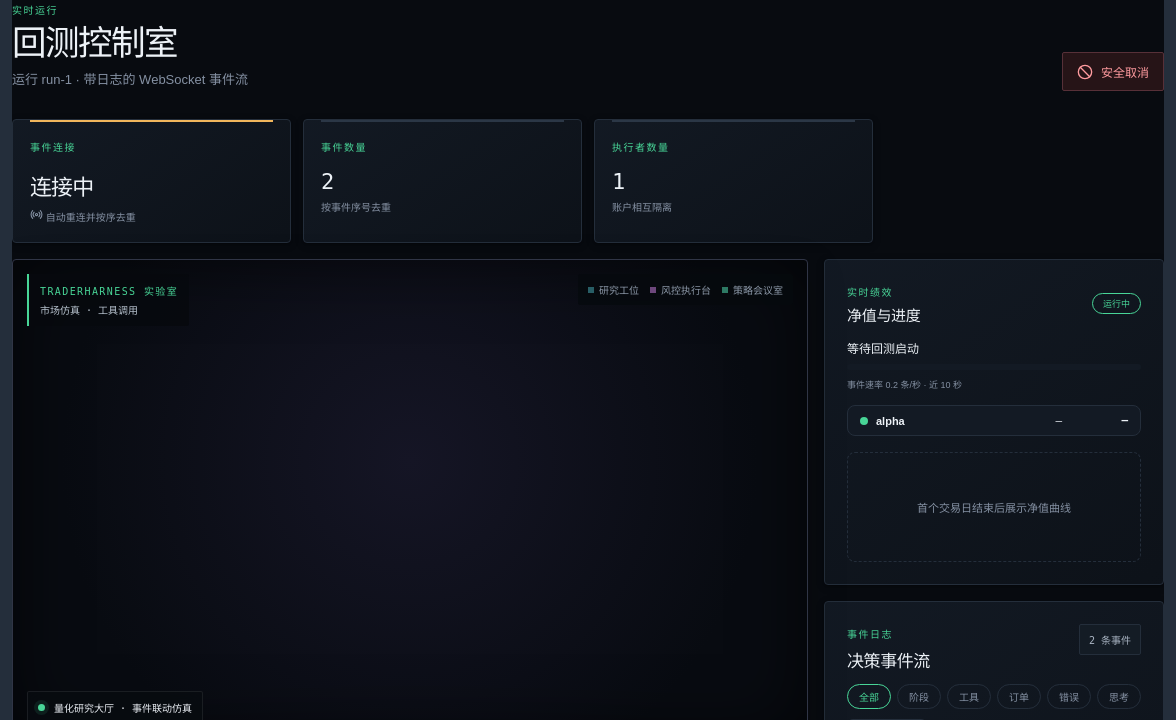
Test case: LiveRun › filters the event log by type chips
The image size is (1176, 720).
Check: the heading "回测控制室" is shown, box top-left (12, 24), bottom-right (177, 62)
Click the button "工具". click: click(969, 697)
box: top-left (947, 684), bottom-right (991, 709)
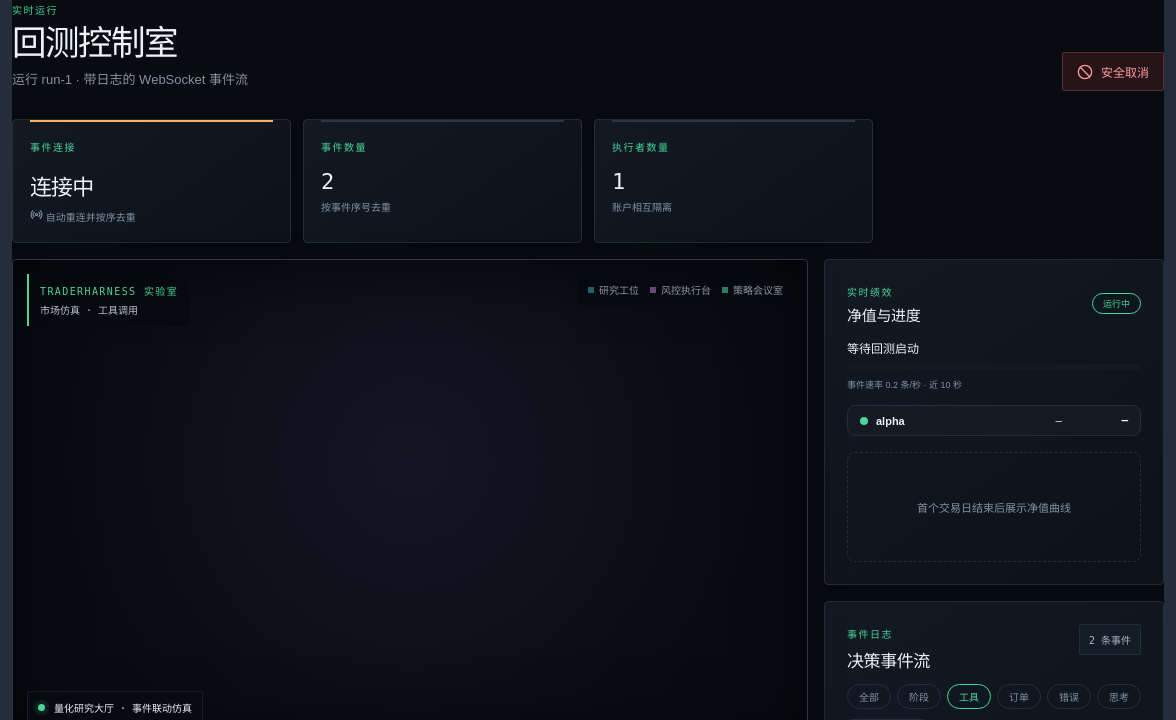
Click the button "全部". click: click(869, 697)
box: top-left (847, 684), bottom-right (891, 709)
(page scrolled)
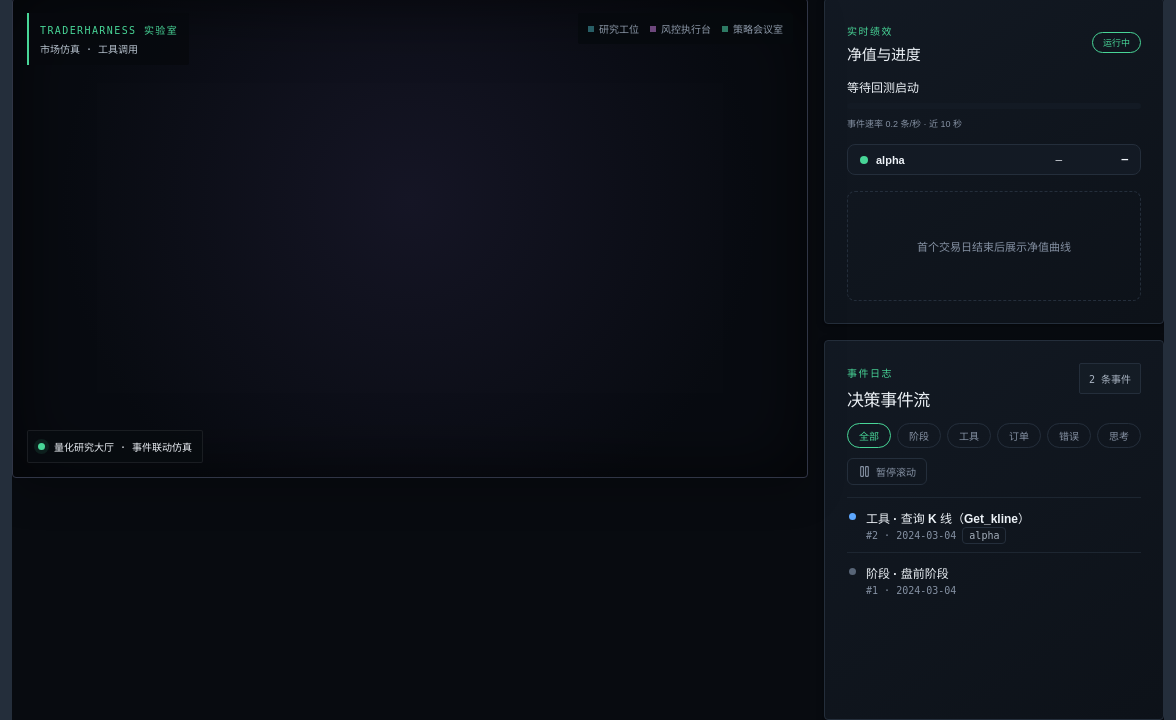
Check: the text "阶段 · 盘前阶段" is shown, box top-left (866, 564), bottom-right (956, 581)
